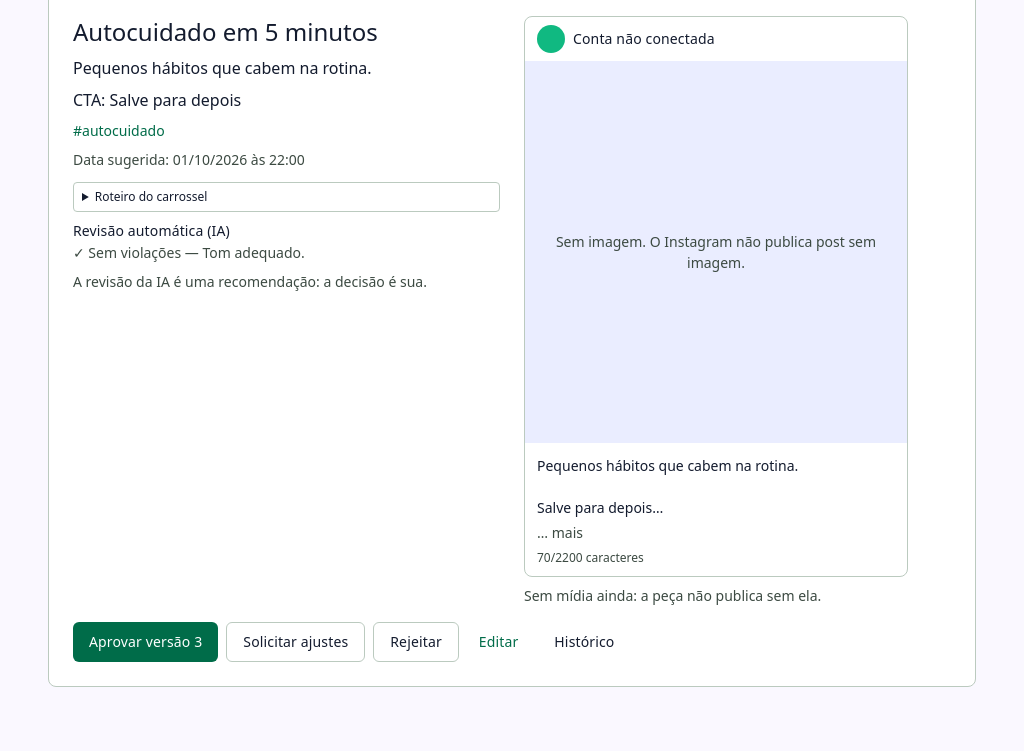
Test case: erro do servidor na rejeição aparece e nada é dado como feito
(page scrolled)
Click the button "Rejeitar": (416, 642) [373,622,459,662]
(page scrolled)
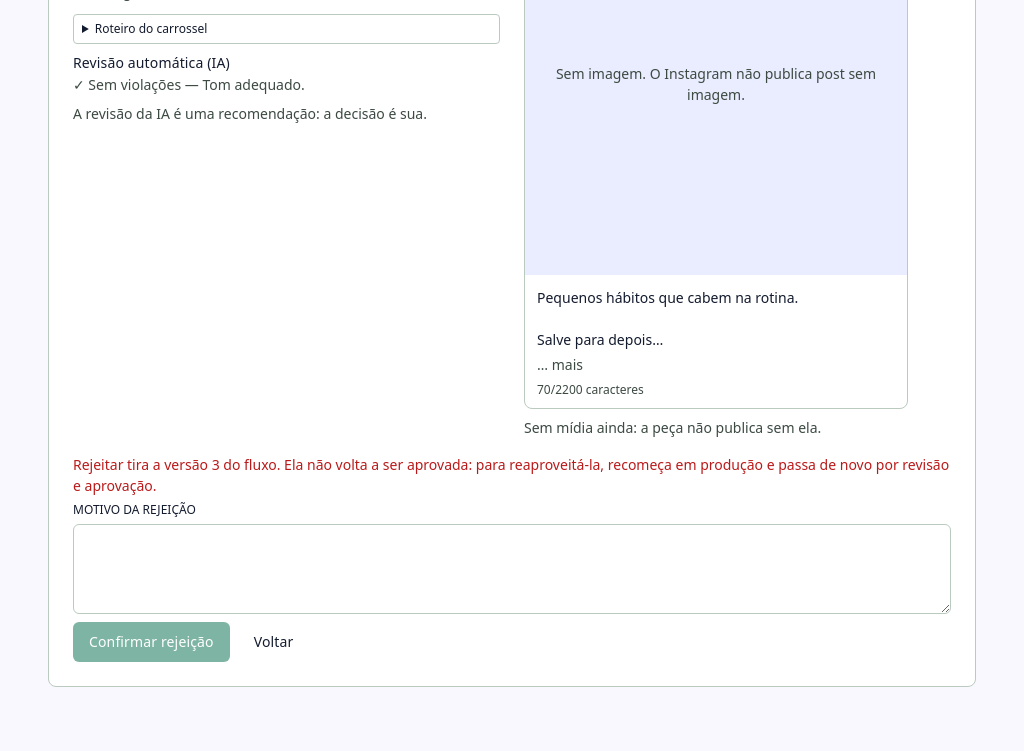
In the text box labelled "Motivo da rejeição": (512, 569) [73,524,951,614], type "Motivo válido."
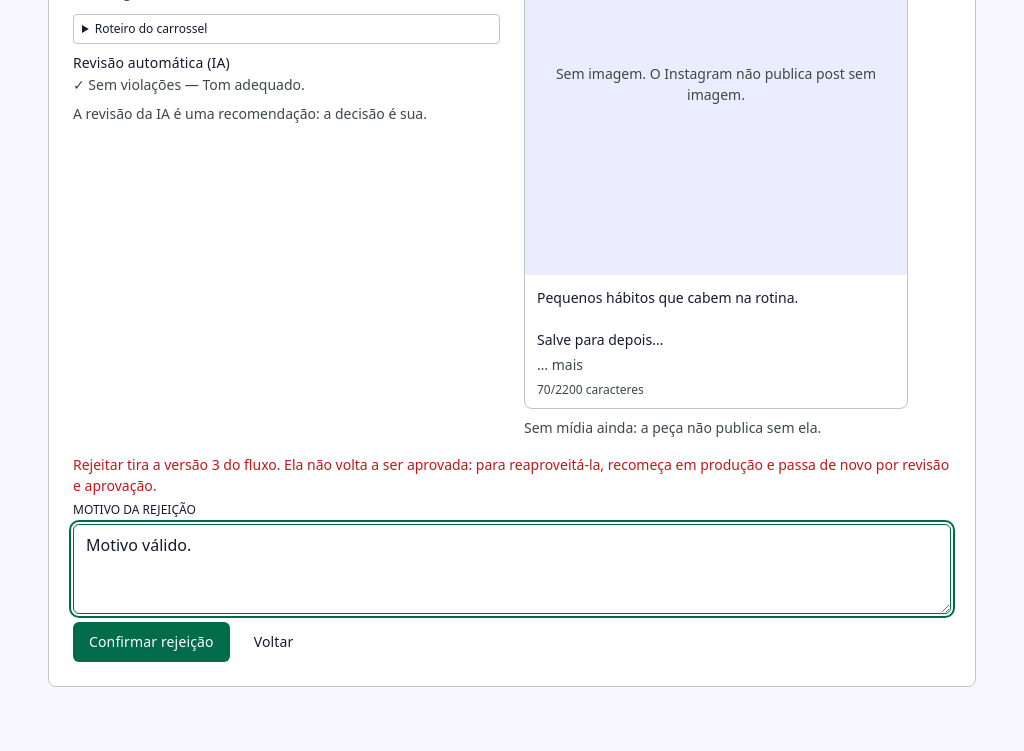
Click the button "Confirmar rejeição": (151, 642) [73,622,230,662]
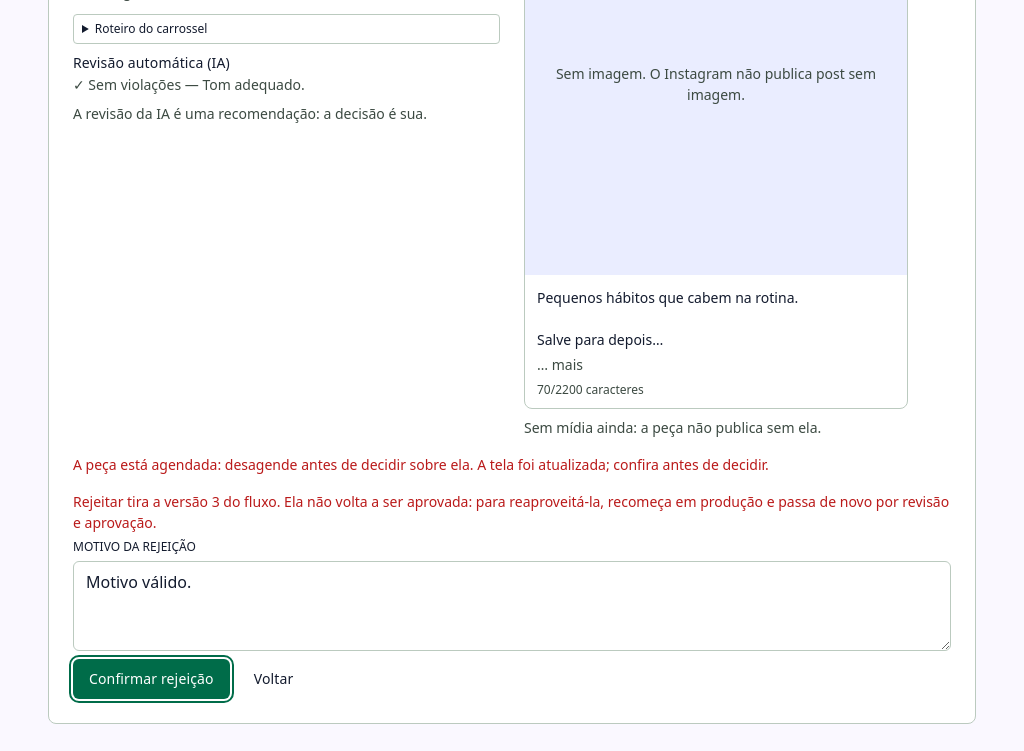
Expected: the message shows "desagende antes de decidir", [73,455,769,474]
